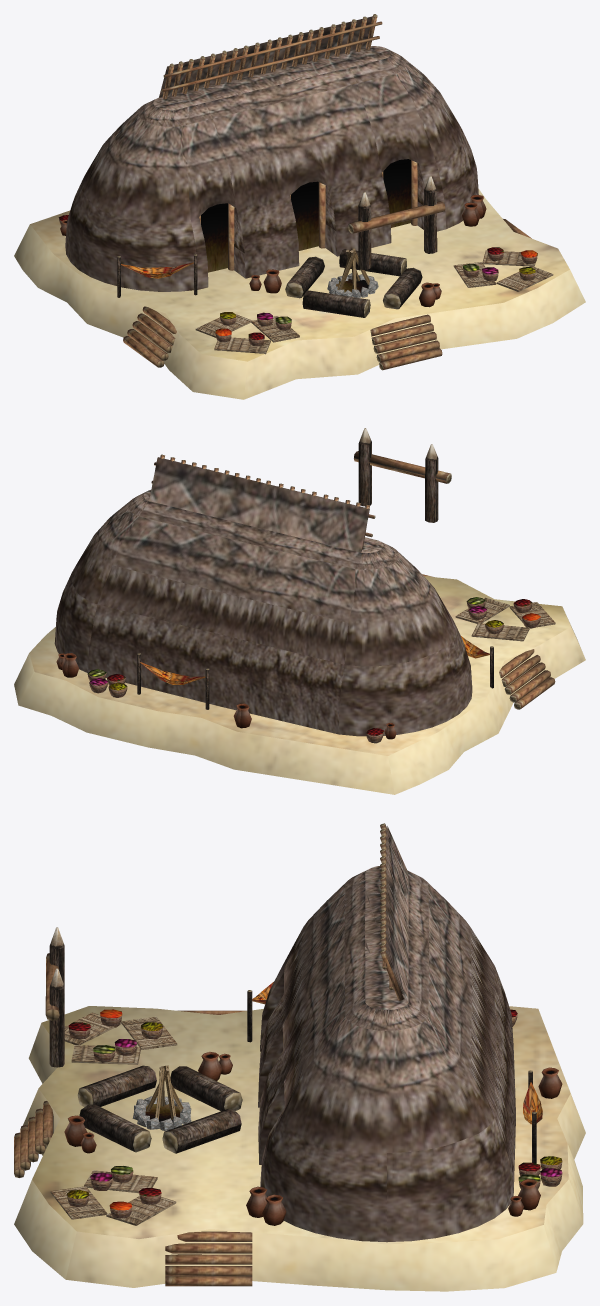
3 views of the same model, one above another, from view 1: azimuth 30°, elevation 25°; view 2: azimuth 150°, elevation 25°; view 3: azimuth 270°, elevation 25° (orthographic). The views are drawn at different scales.
Visible parts, largest first — view 1: cc; view 2: cc; view 3: cc.
Part boxes in pixels (x1,y1,x2,y2): cc: [14, 14, 585, 399]; cc: [14, 428, 585, 794]; cc: [14, 823, 585, 1291].
Bounding box in the file's own units: 36 × 33.73 × 17.98.
